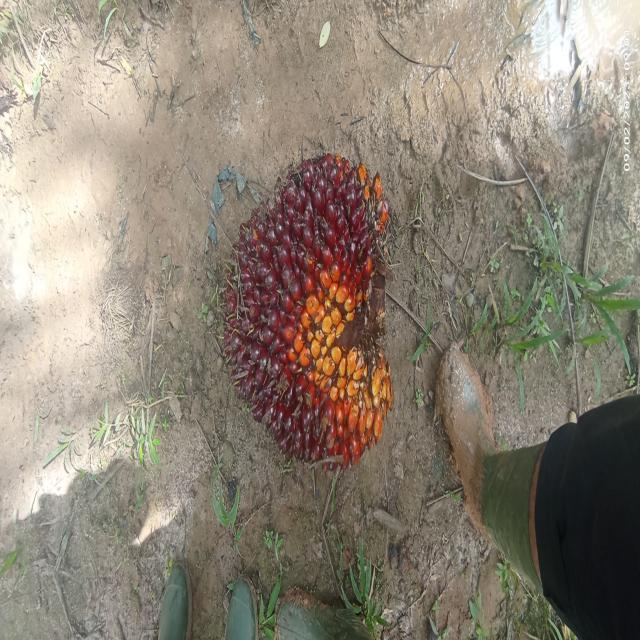fraksi 3: (190, 113, 410, 522)
